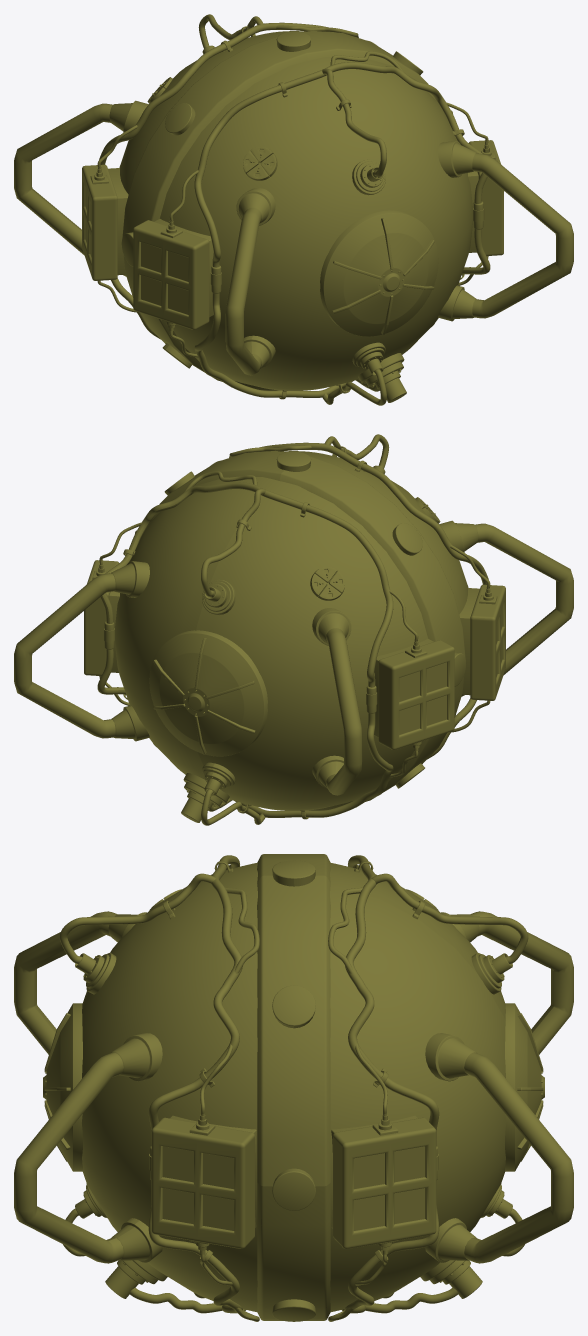
Rendered from Satellite.fbx.
3 renders of one model, top to bottom at view 1: azimuth 30°, elevation 25°; view 2: azimuth 150°, elevation 25°; view 3: azimuth 270°, elevation 25°, orthographic. The views are drawn at different scales.
Visible parts, largest first — view 1: SM_Modul.001; view 2: SM_Modul.001; view 3: SM_Modul.001.
Part boxes in pixels (left/top/right/bottom): SM_Modul.001: left=14, top=14, right=573, bottom=405; SM_Modul.001: left=14, top=434, right=573, bottom=825; SM_Modul.001: left=14, top=854, right=573, bottom=1321.
Bounding box in the file's own units: 188 × 172 × 200.
